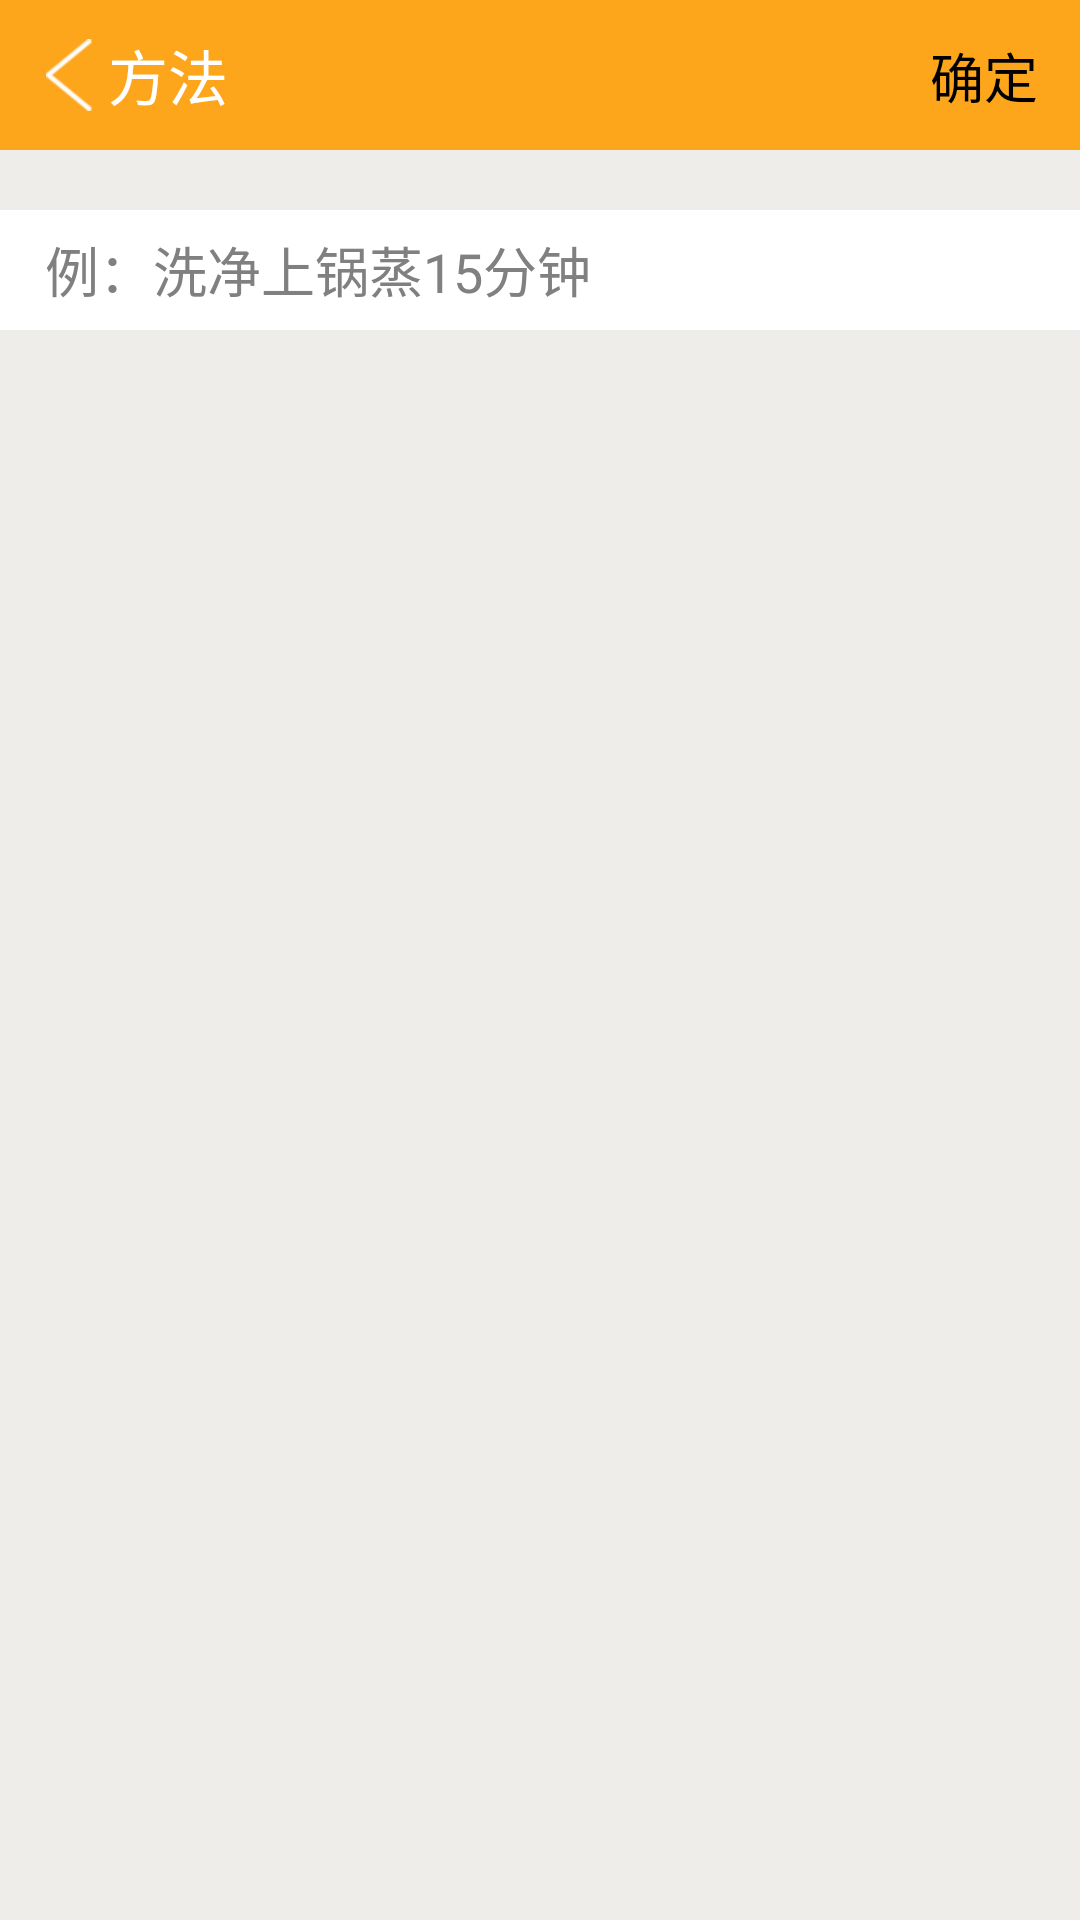

Icons on this 1080px x 1920px Android screen, each with its box as BBox(x1, y1, x2, y2):
imageview arrow back: BBox(46, 39, 92, 111)
